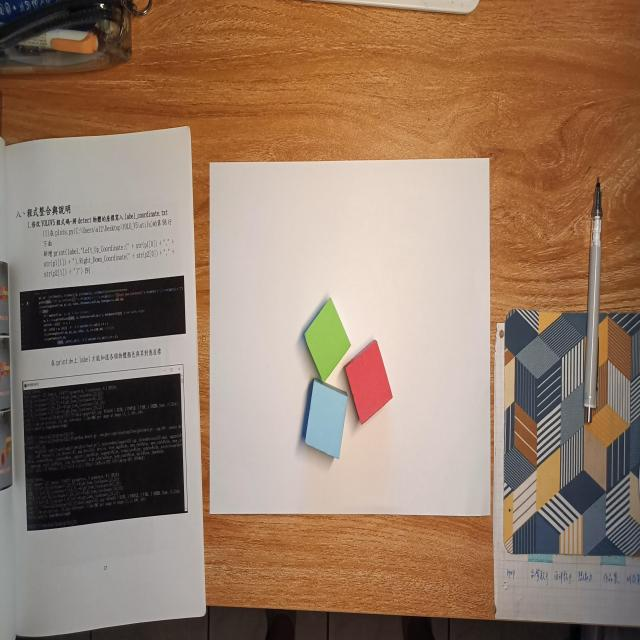BLUE: (305, 379, 348, 460)
GREEN: (304, 298, 352, 383)
RED: (343, 339, 393, 425)
